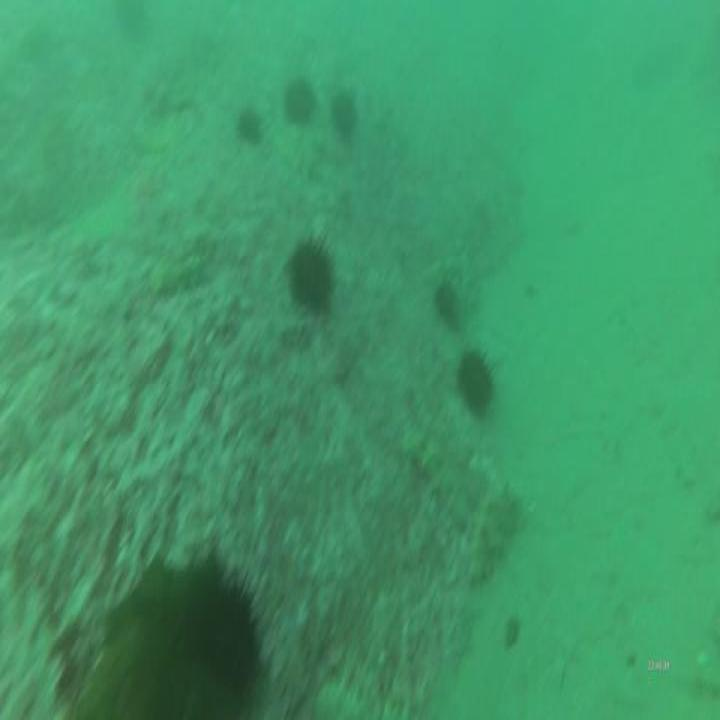echinus: (183, 556, 264, 706), (287, 233, 337, 318), (455, 343, 497, 423), (281, 73, 317, 128), (330, 91, 364, 144), (430, 276, 460, 327), (234, 102, 262, 150)
holothurian: (399, 410, 480, 538), (460, 471, 524, 592), (146, 244, 206, 304)
